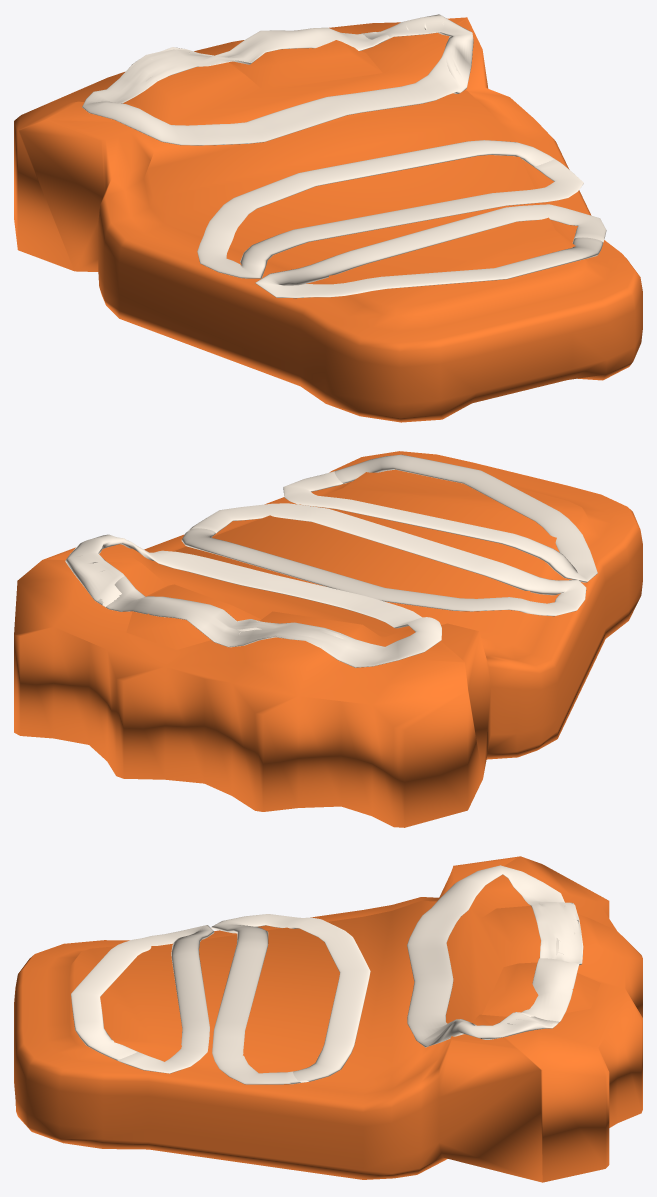
The model's file is bear_claw.fbx.
3 renders of one model, top to bottom at view 1: azimuth 30°, elevation 25°; view 2: azimuth 150°, elevation 25°; view 3: azimuth 270°, elevation 25°, orthographic. The views are drawn at different scales.
Parts seen in each view (by area): view 1: bear claw.002; view 2: bear claw.002; view 3: bear claw.002.
Boxes of the visible parts, box(x1,y1,x2,y2) form: bear claw.002: box(14, 14, 642, 422); bear claw.002: box(14, 451, 642, 827); bear claw.002: box(14, 856, 642, 1182).
Bounding box in the file's own units: 194 × 60.7 × 251.
